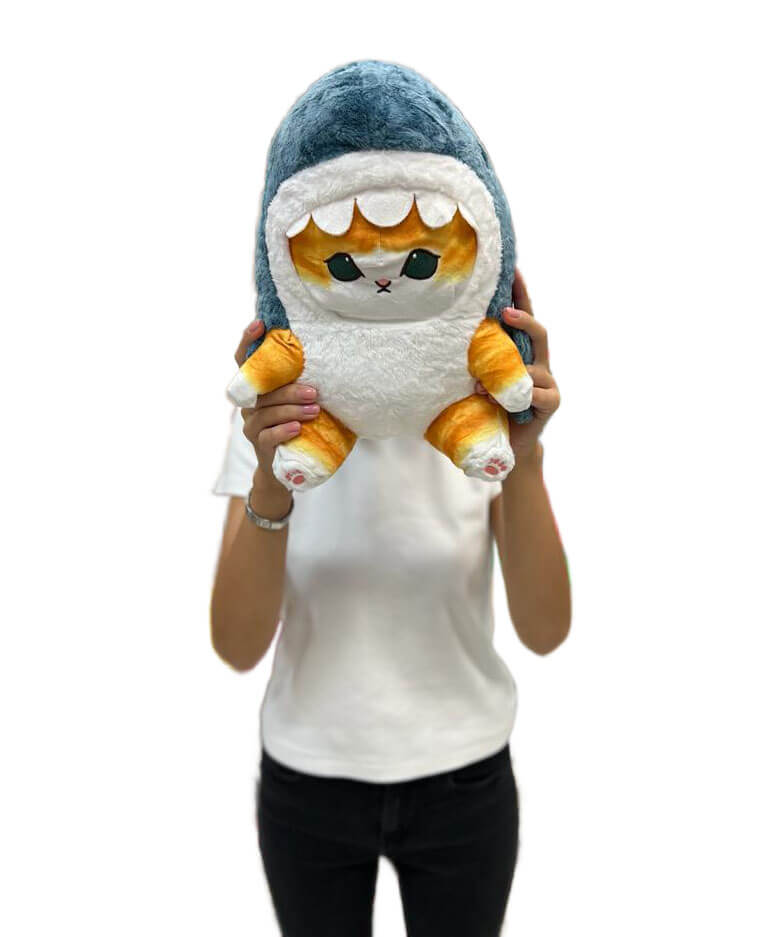cat_shark: (224, 59, 537, 494)
